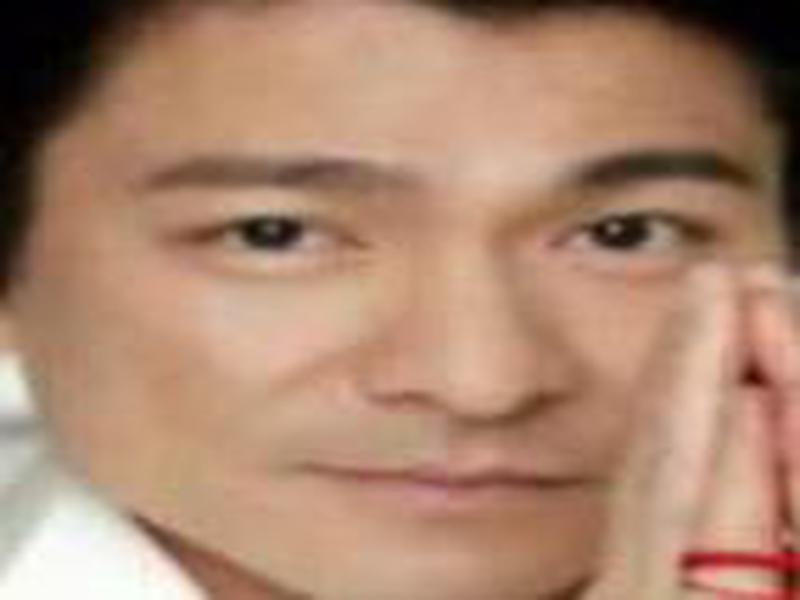without_mask: (65, 29, 766, 591)
